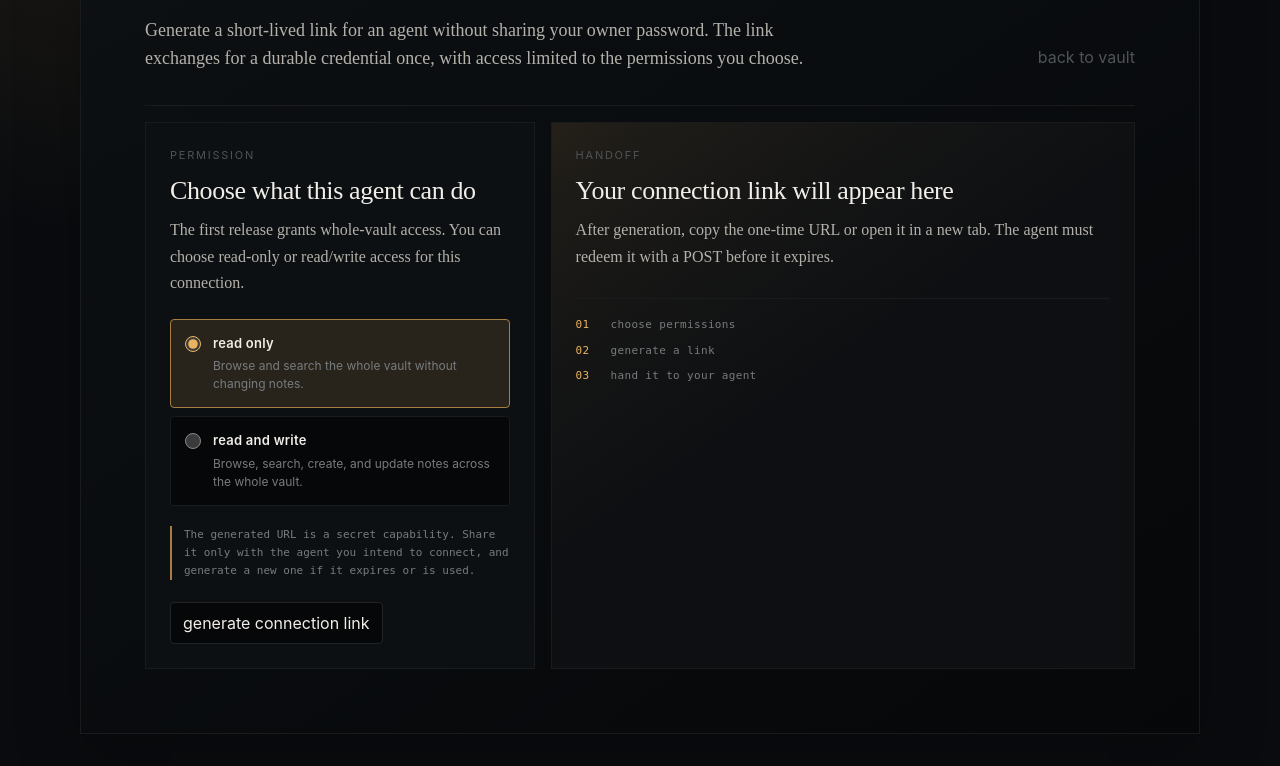
Test case: AgentSettingsPage › presents an actionable message when the owner session is unauthorized
The width and height of the screenshot is (1280, 766).
(page scrolled)
Step 1. Click the button "generate connection link" → (276, 623), box [170,602,383,644]
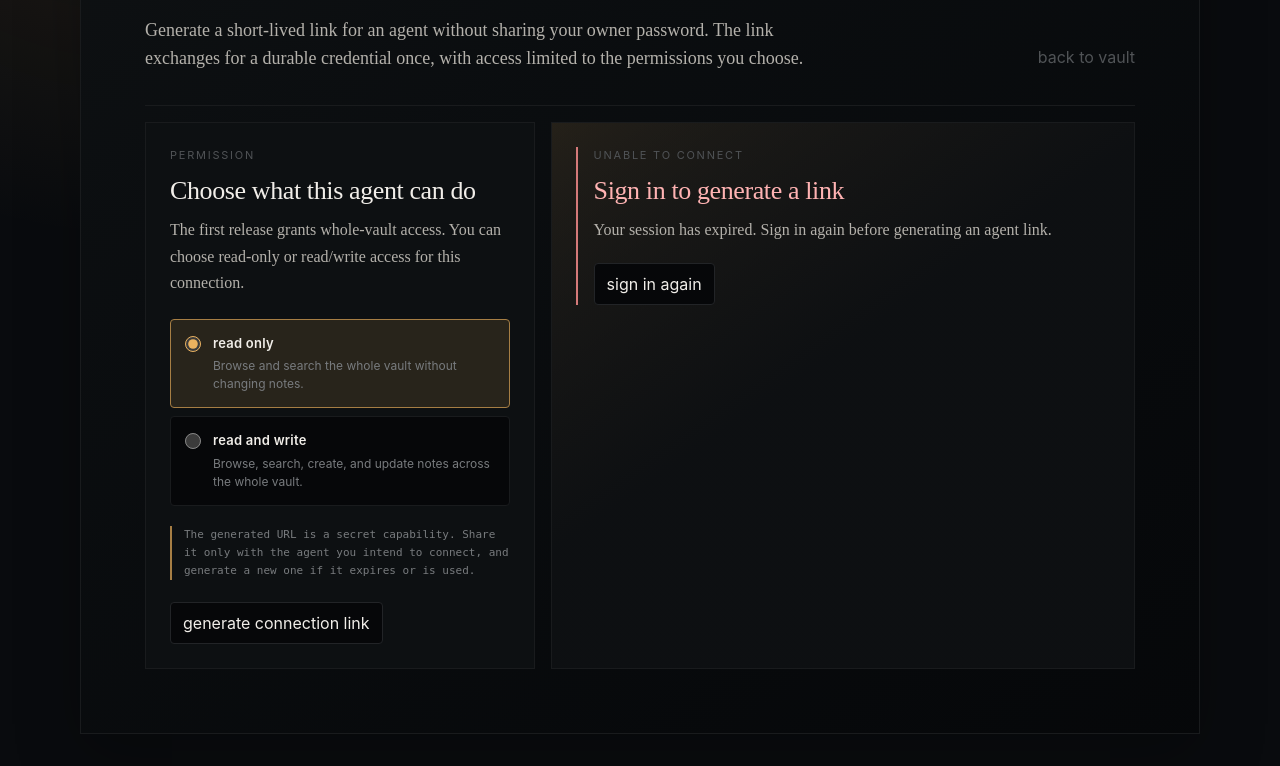
Now the message shows "session has expired", box [594,222,1052,238]
